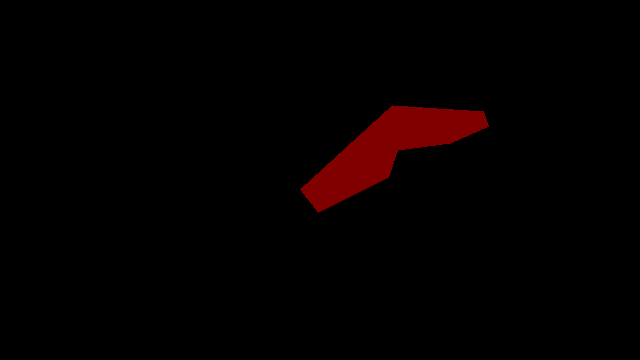fire: (300, 105, 488, 212)
